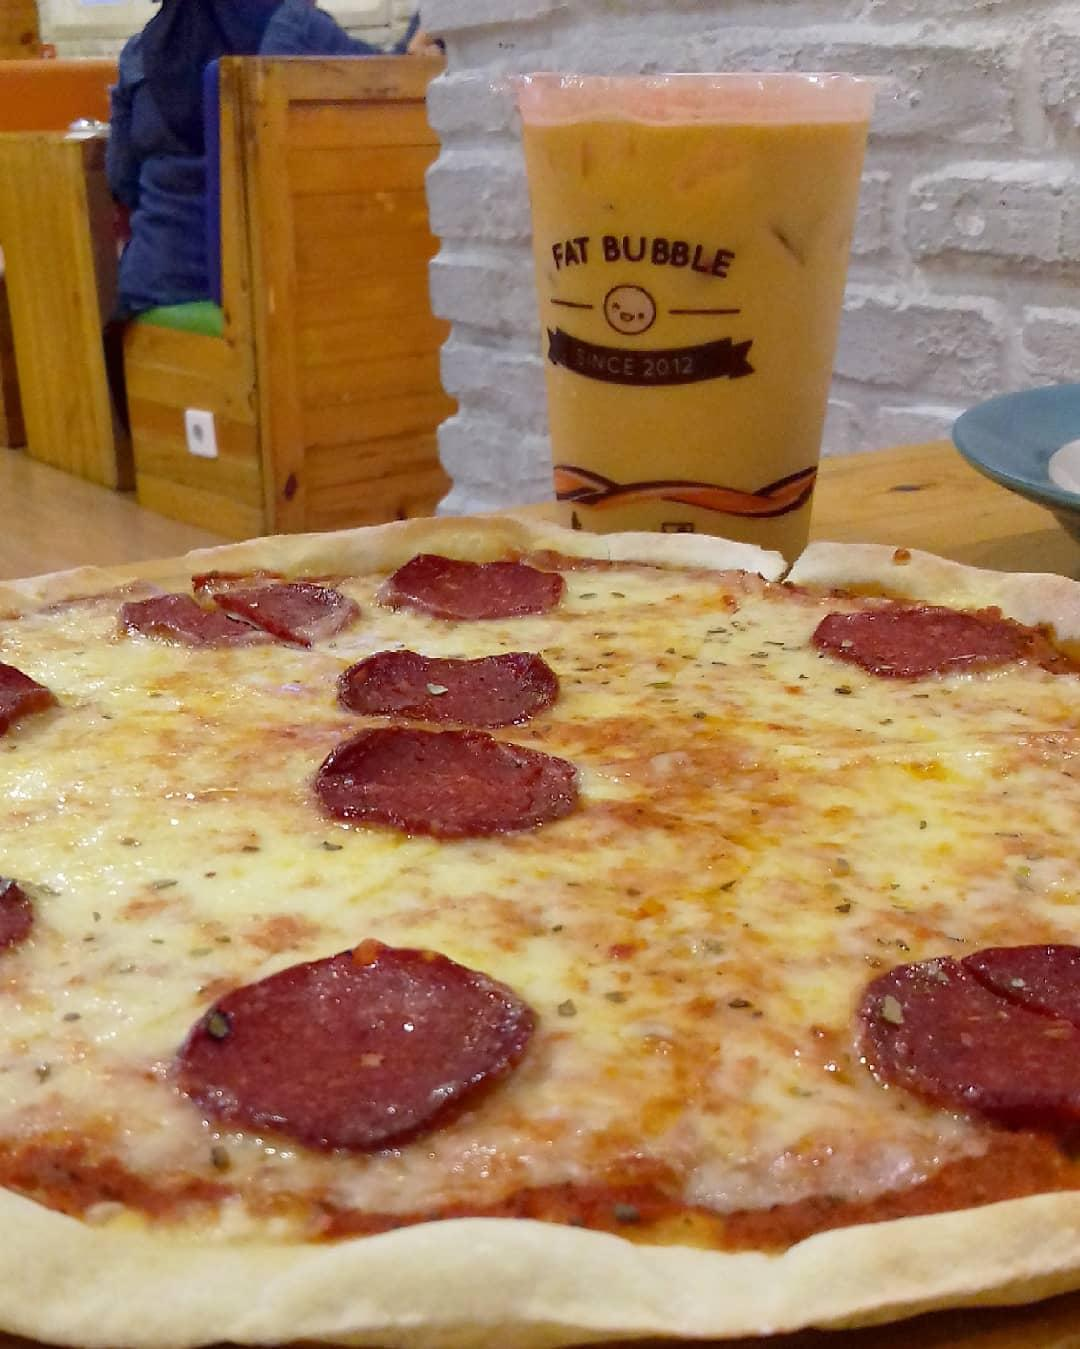Cheese: (601, 711, 1080, 909), (561, 861, 838, 1166), (61, 667, 289, 960), (1, 988, 150, 1138)
Pepperoni: (187, 941, 544, 1163), (861, 920, 1080, 1152), (307, 721, 584, 844), (110, 564, 358, 648), (814, 597, 1046, 686), (337, 646, 560, 724), (377, 548, 571, 619), (1, 660, 60, 742), (1, 867, 37, 963)
Pizza: (0, 517, 1080, 1309)
